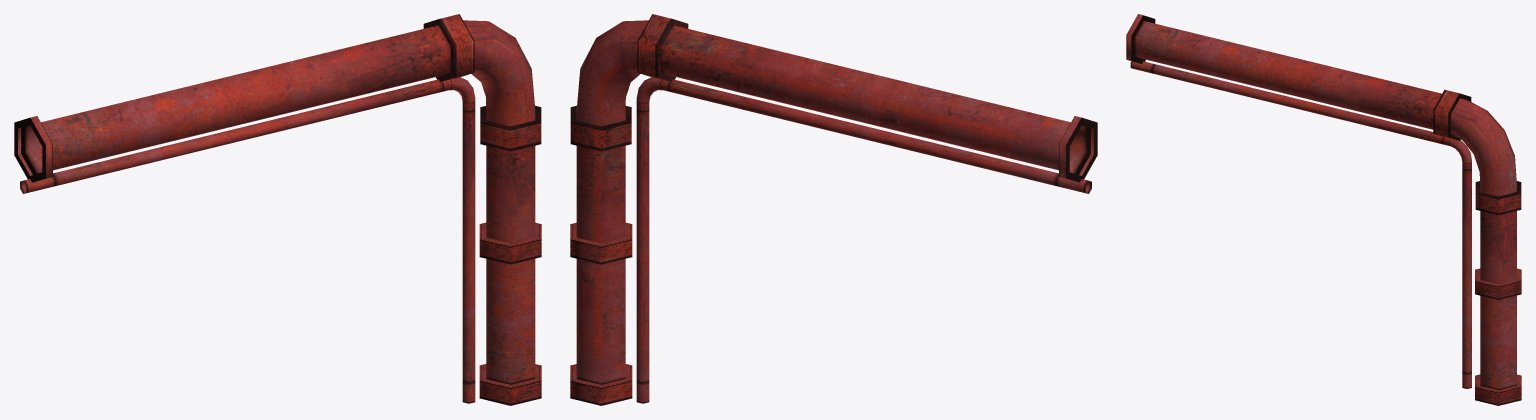
Rendered from RedBigPipe.fbx.
The picture shows the model from 3 angles, left to right: view 1: azimuth 30°, elevation 25°; view 2: azimuth 150°, elevation 25°; view 3: azimuth 330°, elevation 25°; orthographic projection. The views are drawn at different scales.
Parts seen in each view (by area): view 1: RedBigPipe; view 2: RedBigPipe; view 3: RedBigPipe.
Boxes of the visible parts, <box> form: RedBigPipe: <box>14,14,541,405</box>; RedBigPipe: <box>570,14,1097,405</box>; RedBigPipe: <box>1126,14,1521,405</box>.
Bounding box in the file's own units: 796 × 573 × 83.63.
